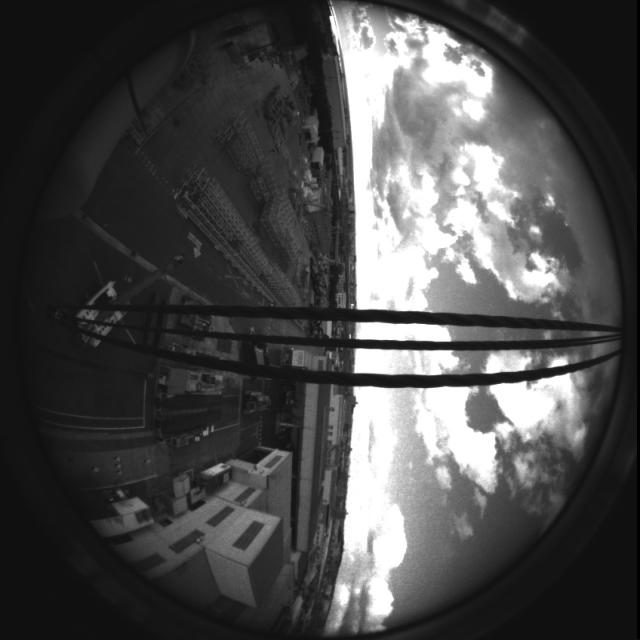rope: (14, 293, 635, 392)
sky: (321, 5, 623, 638)
